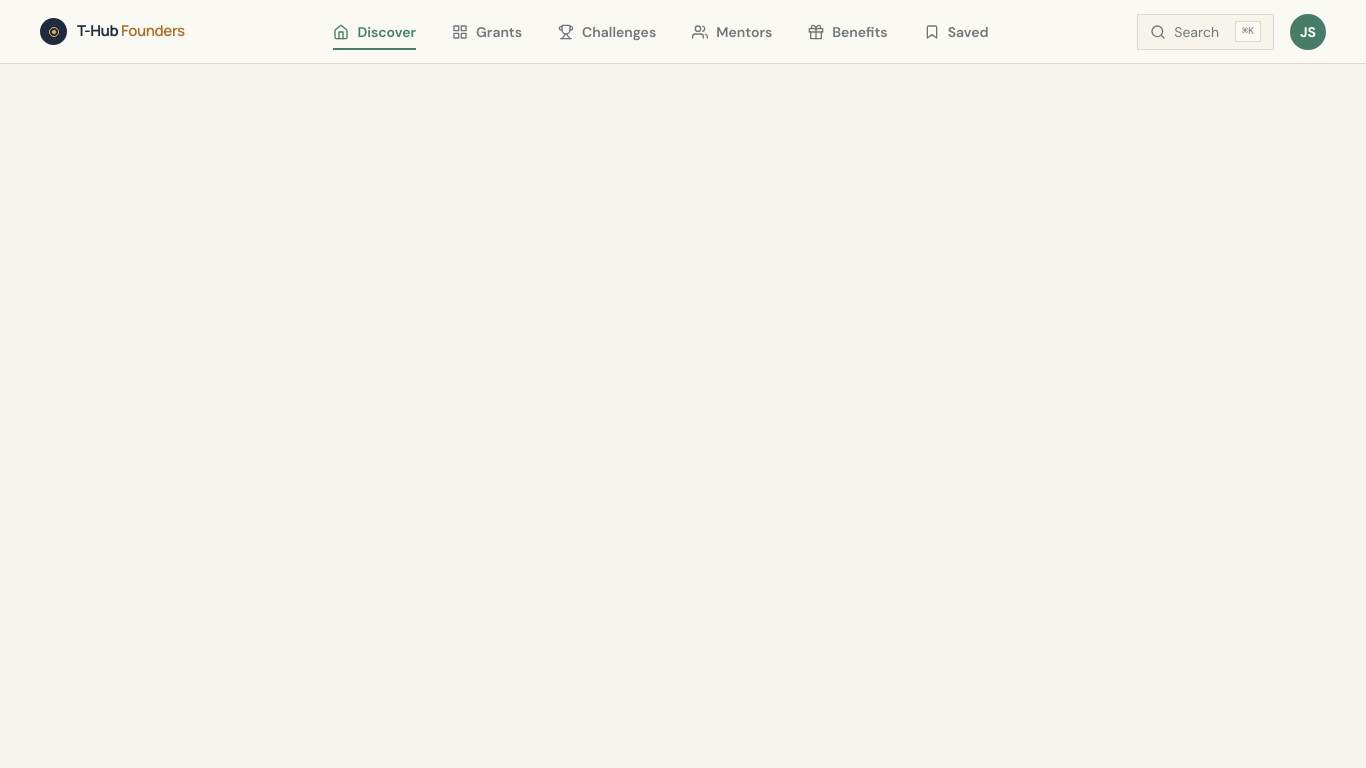
Scenario: Header - User Menu › closes menu on click outside
This screenshot has width=1366, height=768.
// Open menu
Click the button with aria-label "user menu": (1308, 32) x1=1290 y1=14 x2=1326 y2=50
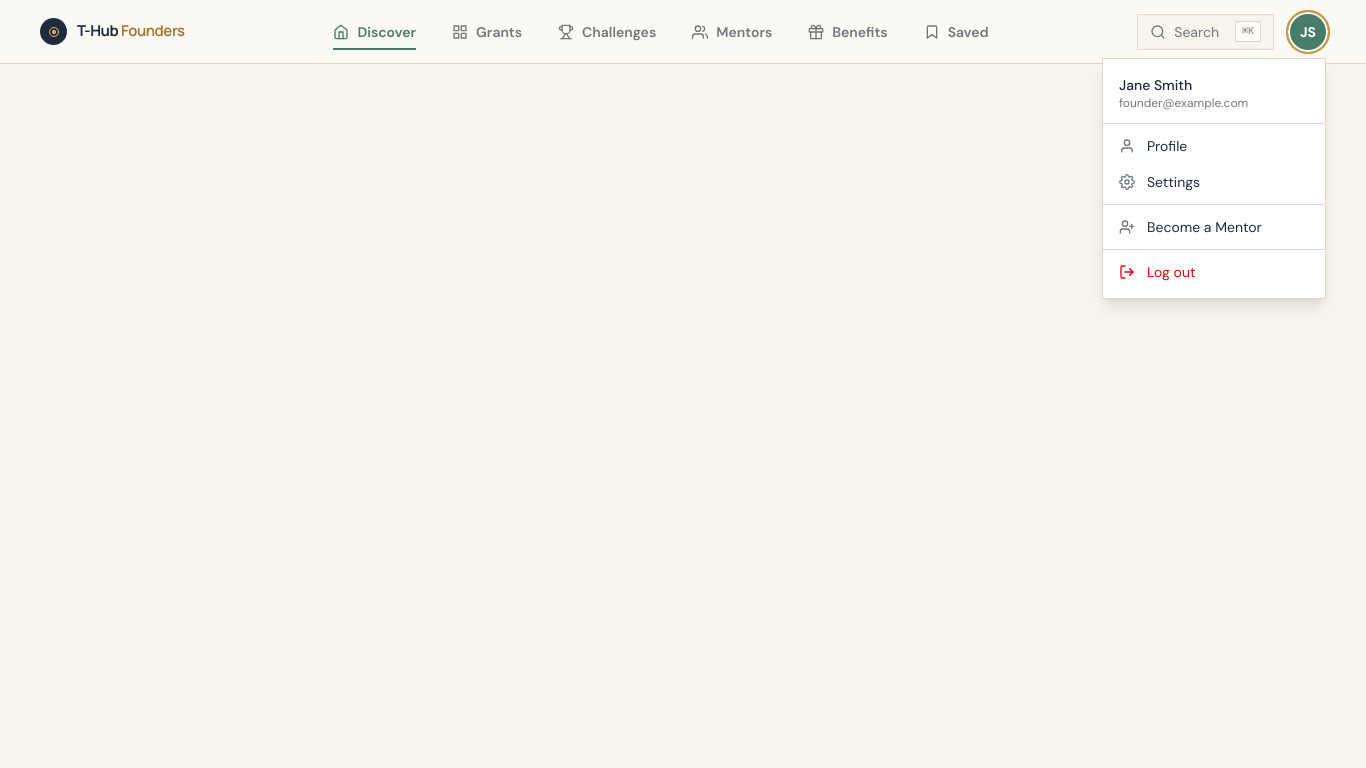
Expected: the menu is shown, x1=1102 y1=58 x2=1326 y2=298
// Click outside
Click the element that starts with "T-Hub": (683, 384) x1=0 y1=0 x2=1365 y2=767
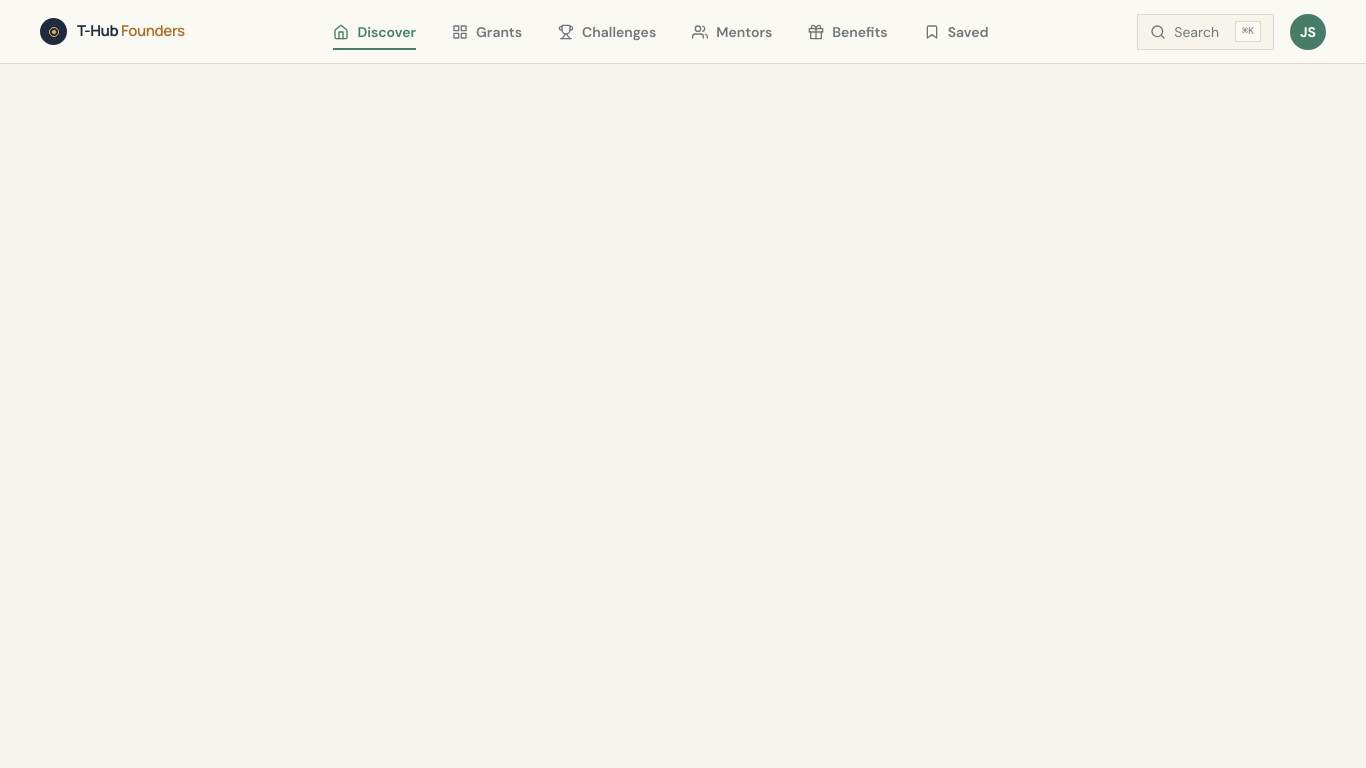
Expected: the menu is gone
